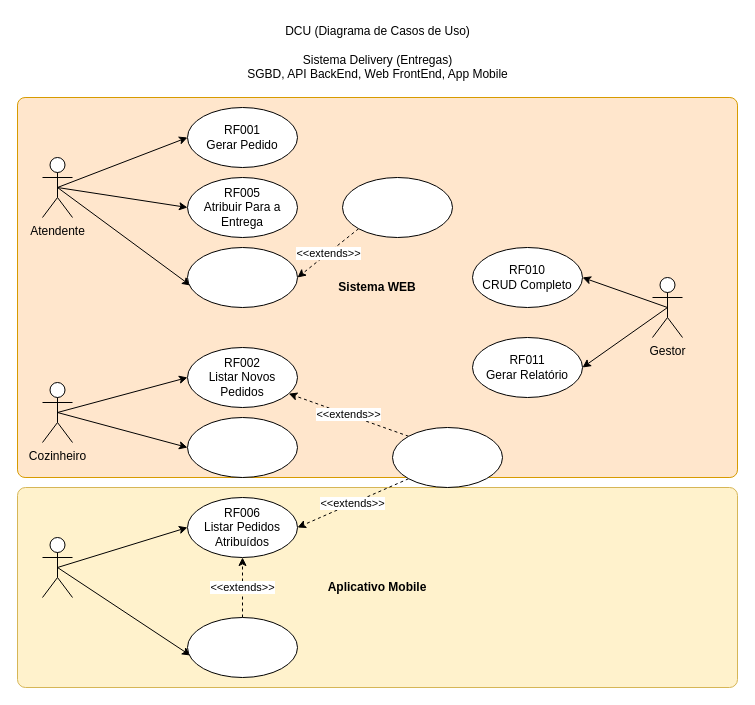
Image size: 755x705. Some labels were removed from this diagram. The centre of each missing label's shape, as x and y in pixels:
Motoboi: the point at 57,567
RF003 Listar Todos os Pedidos: the point at 242,277
RF004 Marcar como Pronto: the point at 242,447
RF007 Marcar como Entregue: the point at 242,647
RF008 Cancelar Pedido: the point at 397,207
RF009 Marcar OBS Problema: the point at 447,457
